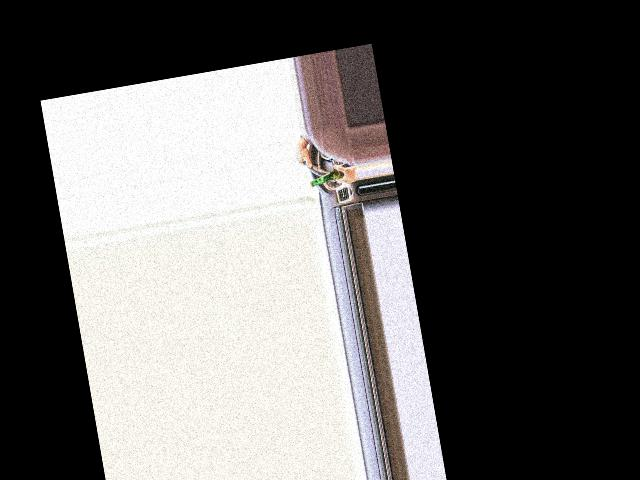beer: (307, 161, 354, 187)
